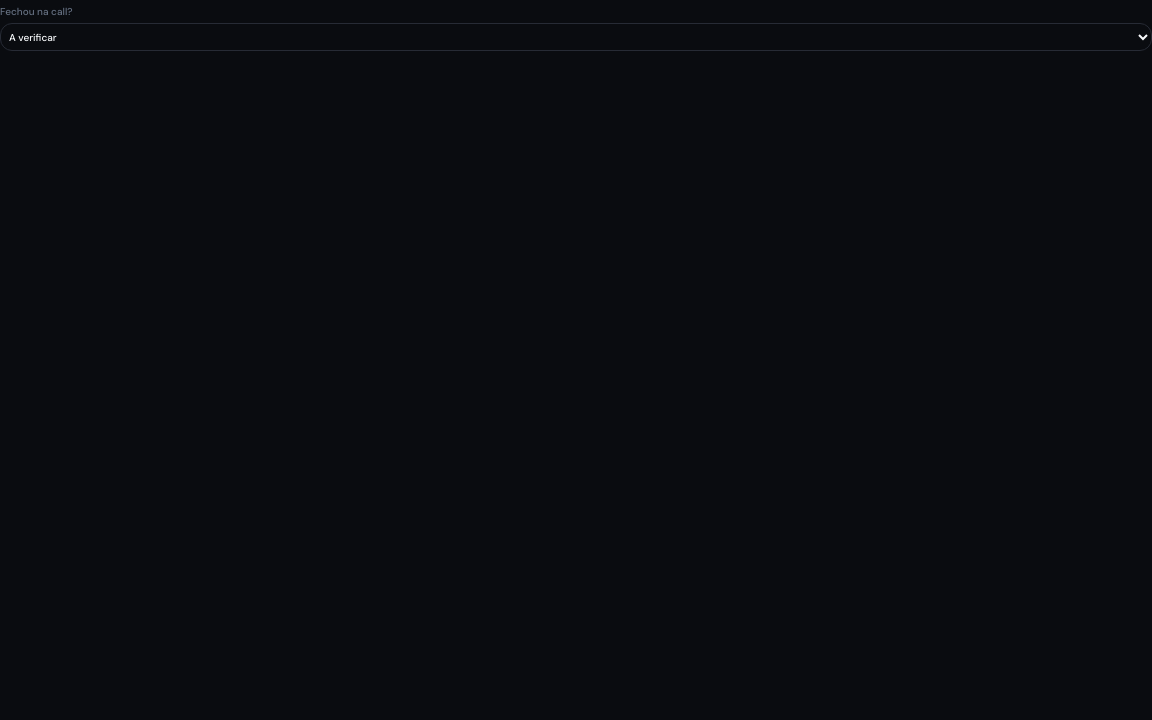
Test: requires the objection before saving a negative closing
Later steps or results of the test are not shown.
Select "Não fechou" in the dropdown named "Fechou na call? Cliente" at (576, 37), box [0,23,1151,51]
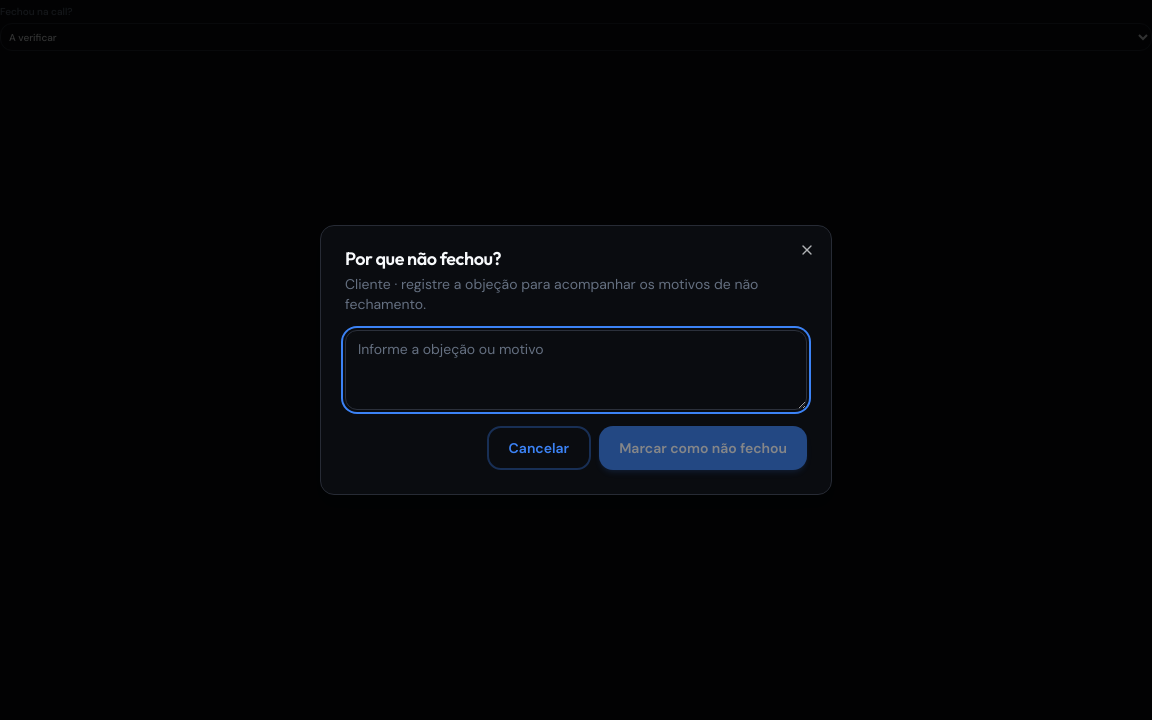
expect the button "Marcar como não fechou" is disabled: met, box [599,426,807,470]
